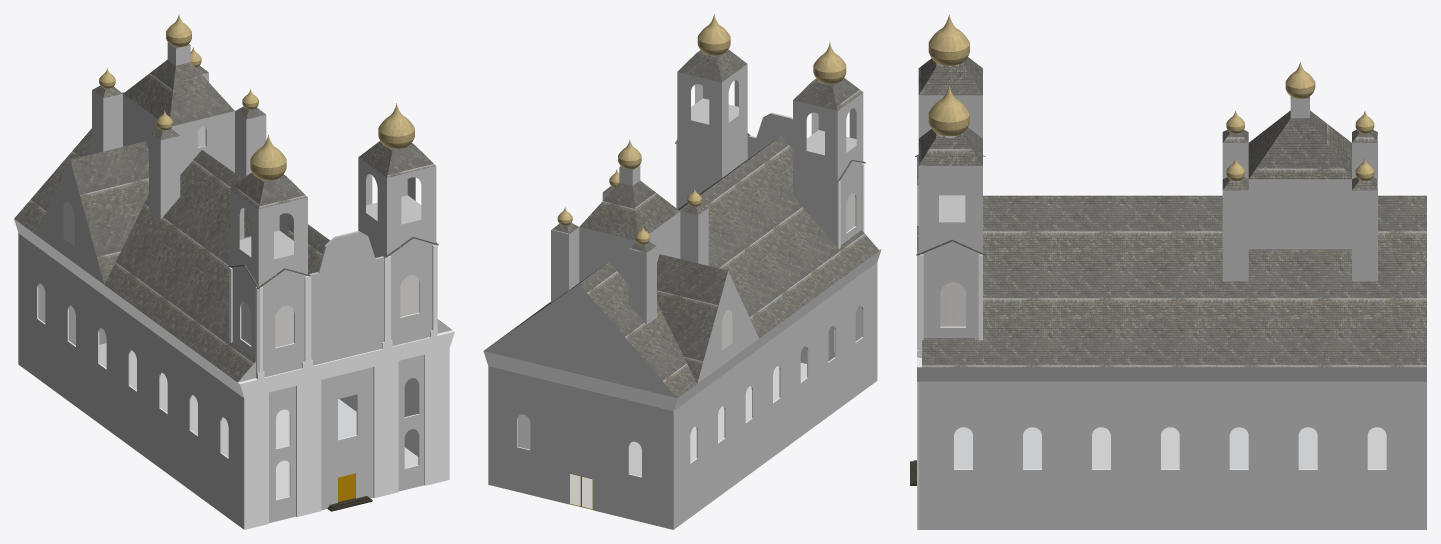
The model's file is spassky-sobor.glb.
3 renders of one model, left to right at view 1: azimuth 30°, elevation 25°; view 2: azimuth 150°, elevation 25°; view 3: azimuth 270°, elevation 25°, orthographic. The views are drawn at different scales.
Parts seen in each view (by area): view 1: Geom3D (×8); view 2: Geom3D (×8); view 3: Geom3D (×8).
Boxes of the visible parts, x1,y1,x2,y2 form: Geom3D (×8): (14, 14, 454, 529); Geom3D (×8): (483, 14, 881, 529); Geom3D (×8): (915, 15, 1426, 529).
Size of the model in its own units: 32.52 by 54.33 by 60.
8 materials, 4 textured.
